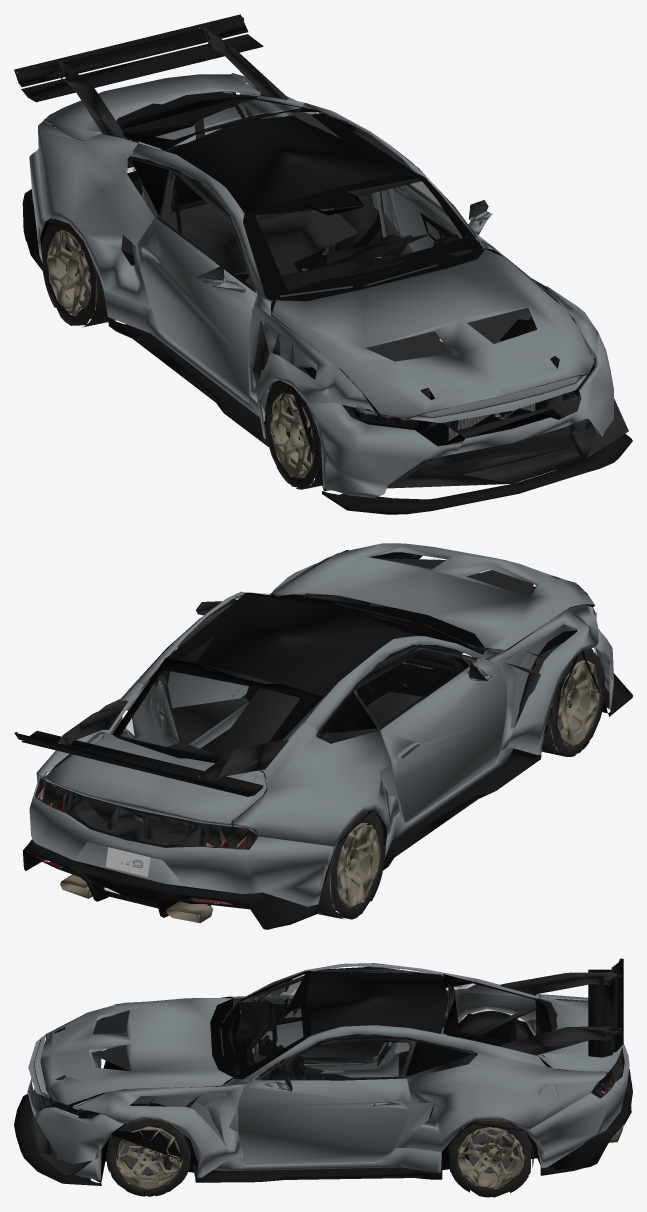
The model's file is mustang-gtd.glb.
The picture shows the model from 3 angles, top to bottom: view 1: azimuth 30°, elevation 25°; view 2: azimuth 150°, elevation 25°; view 3: azimuth 270°, elevation 25°; orthographic projection. The views are drawn at different scales.
Visible parts, largest first — view 1: F:Paint_Geo_lodA_Paint_Geo_lodA_Ford_MustangGTD_2025Paint_Ma, F:Coloured_Geo_lodA_Coloured_Geo_lodA_Ford_MustangGTD_2025Co, F:Window_Geo_lodA_Window_Geo_lodA_Ford_MustangGTD_2025Window, F:Carbon1_Geo_lodA_Carbon1_Geo_lodA_Ford_MustangGTD_2025Carb, F:Base_Geo_lodA_Base_Geo_lodA_Ford_MustangGTD_2025Base_Mater, F:GrilleAlpha1_Geo_lodA_GrilleAlpha1_Geo_lodA_Ford_MustangGT, polySurface646_F:Ford_MustangGTD_2025_Wheel1A_3D_3DWheel1A_M, F:GrilleNoAlpha5_Geo_lodA_GrilleNoAlpha5_Geo_lodA_Ford_Musta, polySurface282_F:Ford_MustangGTD_2025_Wheel1A_3D_3DWheel1A_M, polySurface703_F:Ford_MustangGTD_2025_Wheel1A_3D_3DWheel1A_M, polySurface351_F:Ford_MustangGTD_2025_Wheel1A_3D_3DWheel1A_M, F:Carbon1M_Geo_lodA_Carbon1M_Geo_lodA_Ford_MustangGTD_2025Ca (+1 smaller); view 2: F:Paint_Geo_lodA_Paint_Geo_lodA_Ford_MustangGTD_2025Paint_Ma, F:Coloured_Geo_lodA_Coloured_Geo_lodA_Ford_MustangGTD_2025Co, F:Window_Geo_lodA_Window_Geo_lodA_Ford_MustangGTD_2025Window, F:Carbon1_Geo_lodA_Carbon1_Geo_lodA_Ford_MustangGTD_2025Carb, F:Base_Geo_lodA_Base_Geo_lodA_Ford_MustangGTD_2025Base_Mater, F:GrilleAlpha1_Geo_lodA_GrilleAlpha1_Geo_lodA_Ford_MustangGT, polySurface646_F:Ford_MustangGTD_2025_Wheel1A_3D_3DWheel1A_M, polySurface282_F:Ford_MustangGTD_2025_Wheel1A_3D_3DWheel1A_M, polySurface703_F:Ford_MustangGTD_2025_Wheel1A_3D_3DWheel1A_M, polySurface351_F:Ford_MustangGTD_2025_Wheel1A_3D_3DWheel1A_M, F:Textured2_Geo_lodA_Textured2_Geo_lodA_Ford_MustangGTD_2025, F:ManufacturerPlate_Geo_lodA_ManufacturerPlate_Geo_lodA_Ford (+3 smaller); view 3: F:Paint_Geo_lodA_Paint_Geo_lodA_Ford_MustangGTD_2025Paint_Ma, F:Coloured_Geo_lodA_Coloured_Geo_lodA_Ford_MustangGTD_2025Co, F:Window_Geo_lodA_Window_Geo_lodA_Ford_MustangGTD_2025Window, F:Carbon1_Geo_lodA_Carbon1_Geo_lodA_Ford_MustangGTD_2025Carb, F:Base_Geo_lodA_Base_Geo_lodA_Ford_MustangGTD_2025Base_Mater, polySurface470_F:Ford_MustangGTD_2025_Wheel1A_3D_3DWheel1A_M, F:GrilleNoAlpha5_Geo_lodA_GrilleNoAlpha5_Geo_lodA_Ford_Musta, polySurface527_F:Ford_MustangGTD_2025_Wheel1A_3D_3DWheel1A_M, polySurface175_F:Ford_MustangGTD_2025_Wheel1A_3D_3DWheel1A_M, polySurface106_F:Ford_MustangGTD_2025_Wheel1A_3D_3DWheel1A_M, F:GrilleAlpha1_Geo_lodA_GrilleAlpha1_Geo_lodA_Ford_MustangGT, F:Carbon1M_Geo_lodA_Carbon1M_Geo_lodA_Ford_MustangGTD_2025Ca (+3 smaller).
Part boxes in pixels (x1,y1,x2,y2): F:Paint_Geo_lodA_Paint_Geo_lodA_Ford_MustangGTD_2025Paint_Ma: (29, 73, 613, 497); F:Coloured_Geo_lodA_Coloured_Geo_lodA_Ford_MustangGTD_2025Co: (16, 17, 628, 488); F:Window_Geo_lodA_Window_Geo_lodA_Ford_MustangGTD_2025Window: (121, 97, 596, 429); F:Carbon1_Geo_lodA_Carbon1_Geo_lodA_Ford_MustangGTD_2025Carb: (14, 14, 632, 514); F:Base_Geo_lodA_Base_Geo_lodA_Ford_MustangGTD_2025Base_Mater: (40, 73, 594, 490); F:GrilleAlpha1_Geo_lodA_GrilleAlpha1_Geo_lodA_Ford_MustangGT: (267, 307, 571, 467); polySurface646_F:Ford_MustangGTD_2025_Wheel1A_3D_3DWheel1A_M: (47, 230, 91, 315); F:GrilleNoAlpha5_Geo_lodA_GrilleNoAlpha5_Geo_lodA_Ford_Musta: (261, 232, 472, 295); polySurface282_F:Ford_MustangGTD_2025_Wheel1A_3D_3DWheel1A_M: (270, 393, 314, 478); polySurface703_F:Ford_MustangGTD_2025_Wheel1A_3D_3DWheel1A_M: (42, 221, 96, 325); polySurface351_F:Ford_MustangGTD_2025_Wheel1A_3D_3DWheel1A_M: (265, 382, 319, 488); F:Carbon1M_Geo_lodA_Carbon1M_Geo_lodA_Ford_MustangGTD_2025Ca: (127, 103, 453, 310); F:Paint_Geo_lodA_Paint_Geo_lodA_Ford_MustangGTD_2025Paint_Ma: (29, 543, 614, 906); F:Coloured_Geo_lodA_Coloured_Geo_lodA_Ford_MustangGTD_2025Co: (16, 559, 597, 905); F:Window_Geo_lodA_Window_Geo_lodA_Ford_MustangGTD_2025Window: (39, 555, 596, 899); F:Carbon1_Geo_lodA_Carbon1_Geo_lodA_Ford_MustangGTD_2025Carb: (14, 673, 632, 929); F:Base_Geo_lodA_Base_Geo_lodA_Ford_MustangGTD_2025Base_Mater: (43, 550, 607, 903); F:GrilleAlpha1_Geo_lodA_GrilleAlpha1_Geo_lodA_Ford_MustangGT: (83, 558, 564, 838); polySurface646_F:Ford_MustangGTD_2025_Wheel1A_3D_3DWheel1A_M: (337, 823, 379, 907); polySurface282_F:Ford_MustangGTD_2025_Wheel1A_3D_3DWheel1A_M: (557, 660, 600, 745); polySurface703_F:Ford_MustangGTD_2025_Wheel1A_3D_3DWheel1A_M: (330, 811, 383, 919); polySurface351_F:Ford_MustangGTD_2025_Wheel1A_3D_3DWheel1A_M: (550, 649, 605, 756); F:Textured2_Geo_lodA_Textured2_Geo_lodA_Ford_MustangGTD_2025: (60, 874, 212, 923); F:ManufacturerPlate_Geo_lodA_ManufacturerPlate_Geo_lodA_Ford: (105, 847, 150, 876); F:Paint_Geo_lodA_Paint_Geo_lodA_Ford_MustangGTD_2025Paint_Ma: (27, 963, 629, 1180); F:Coloured_Geo_lodA_Coloured_Geo_lodA_Ford_MustangGTD_2025Co: (29, 959, 631, 1175); F:Window_Geo_lodA_Window_Geo_lodA_Ford_MustangGTD_2025Window: (49, 969, 552, 1117); F:Carbon1_Geo_lodA_Carbon1_Geo_lodA_Ford_MustangGTD_2025Carb: (14, 958, 632, 1185); F:Base_Geo_lodA_Base_Geo_lodA_Ford_MustangGTD_2025Base_Mater: (42, 973, 607, 1182); polySurface470_F:Ford_MustangGTD_2025_Wheel1A_3D_3DWheel1A_M: (457, 1127, 524, 1188); F:GrilleNoAlpha5_Geo_lodA_GrilleNoAlpha5_Geo_lodA_Ford_Musta: (228, 1000, 326, 1080); polySurface527_F:Ford_MustangGTD_2025_Wheel1A_3D_3DWheel1A_M: (449, 1120, 531, 1197); polySurface175_F:Ford_MustangGTD_2025_Wheel1A_3D_3DWheel1A_M: (106, 1119, 190, 1196); polySurface106_F:Ford_MustangGTD_2025_Wheel1A_3D_3DWheel1A_M: (116, 1126, 182, 1189); F:GrilleAlpha1_Geo_lodA_GrilleAlpha1_Geo_lodA_Ford_MustangGT: (46, 1010, 621, 1179); F:Carbon1M_Geo_lodA_Carbon1M_Geo_lodA_Ford_MustangGTD_2025Ca: (267, 1003, 537, 1080).
Bounding box in the file's own units: 0.0208 × 0.0131 × 0.0492.
23 materials, 15 textured.
